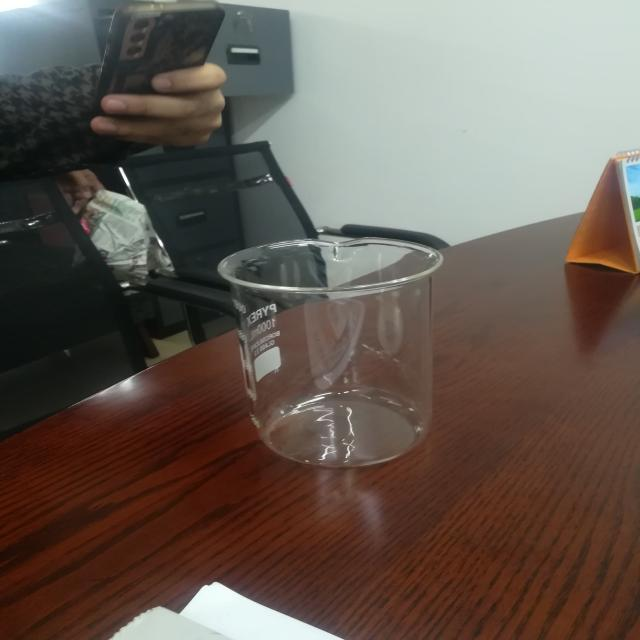Beaker: (170, 199, 499, 485)
